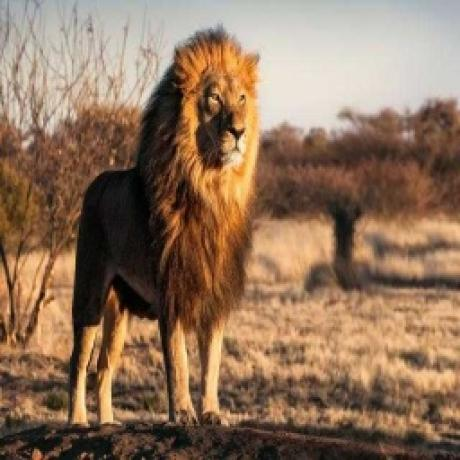Lion: (68, 24, 264, 426)
